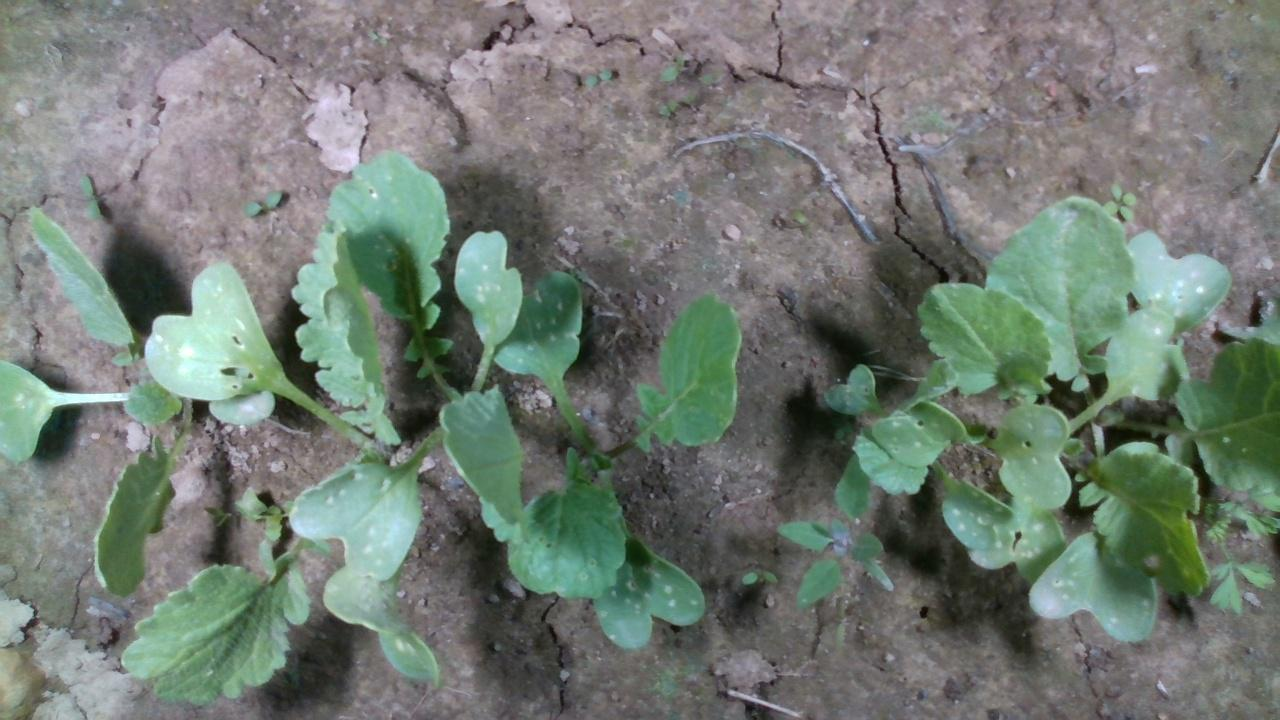weed: (240, 187, 283, 218), (77, 171, 101, 222), (738, 565, 779, 586), (583, 67, 612, 85)
